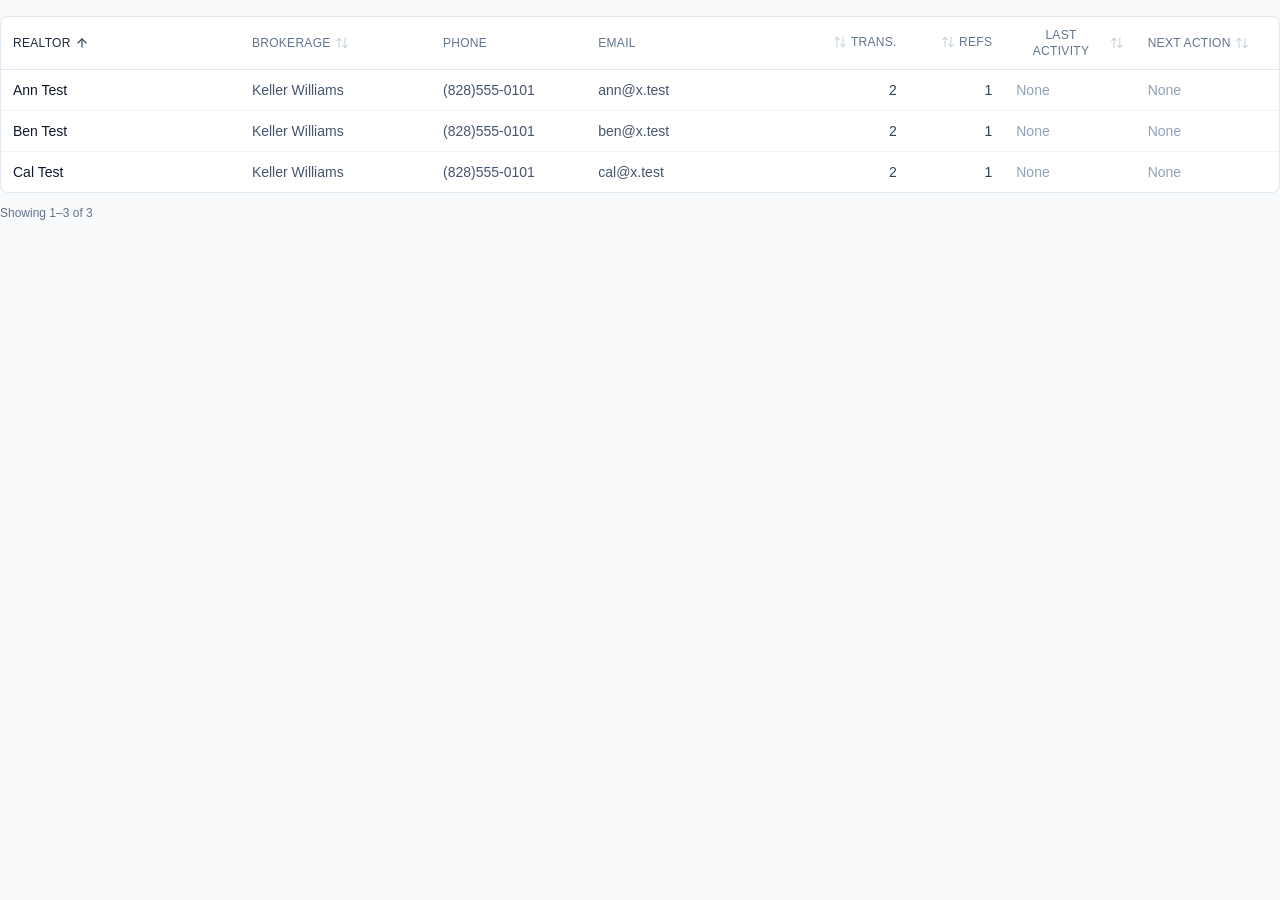
Test: directory rows and drawer › opens the preview drawer for the selected realtor without navigating away
Click the button "Ben Test" at (120, 131), box [13,121,228,141]
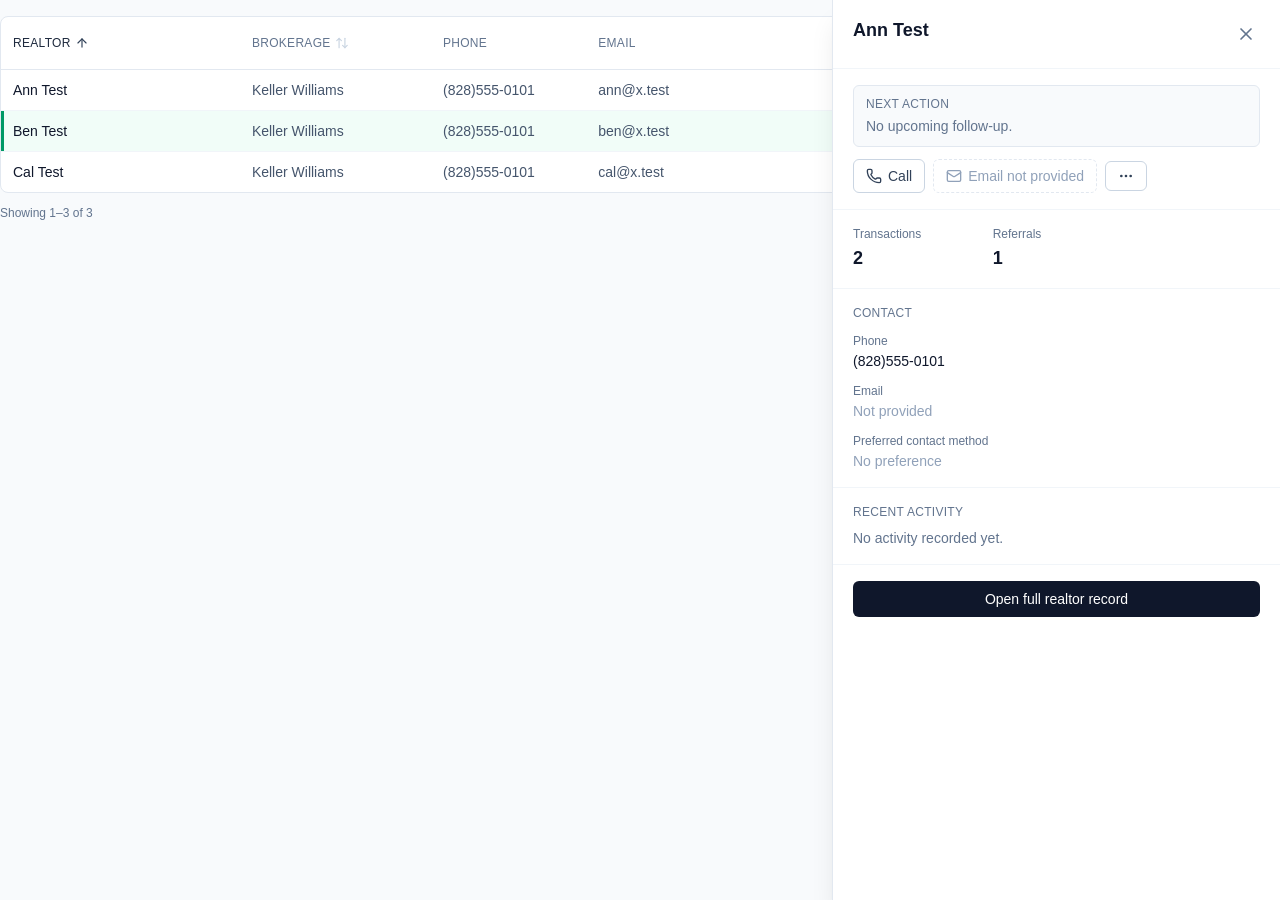
Expected: the dialog "Ann Test" is shown, [832,0,1279,899]
